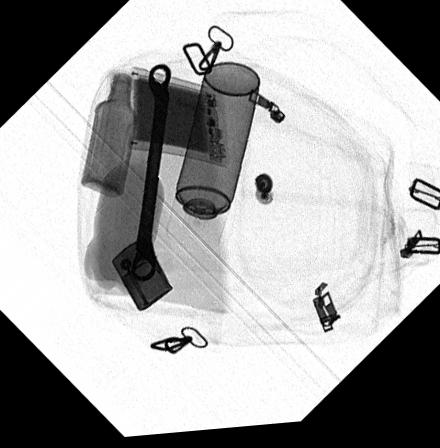Lighter: (110, 238, 173, 313)
Powerbank: (123, 67, 231, 171)
Sprayer: (164, 63, 261, 255)
